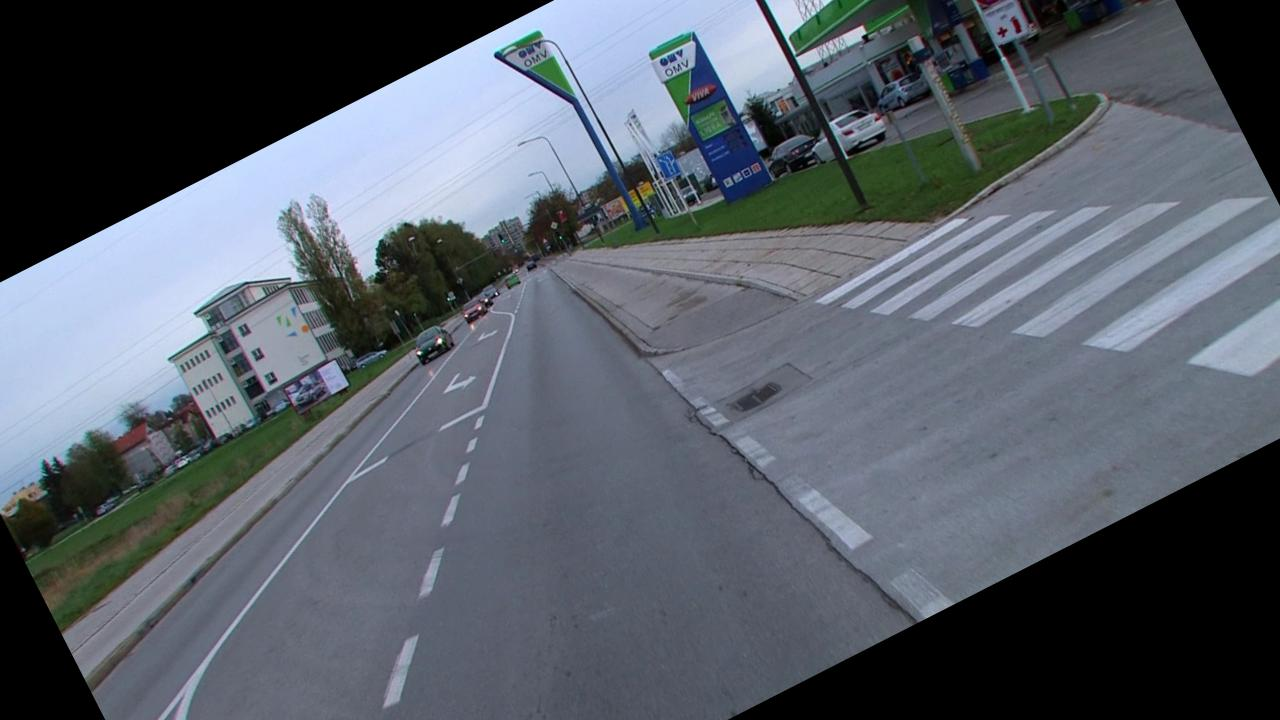Round: (965, 0, 1016, 14)
Squared: (982, 1, 1032, 49), (654, 148, 681, 180)
